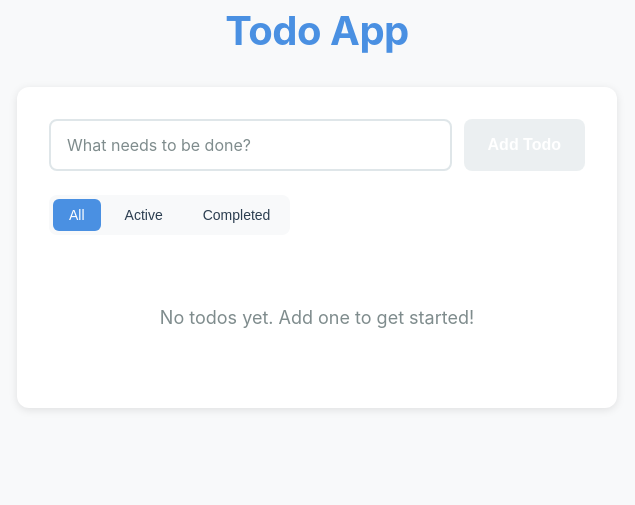
Test: App › should add a new todo
This screenshot has width=635, height=505.
Type "New todo item" into the field with placeholder "What needs to be done?" at (250, 145), box [49,119,452,171]
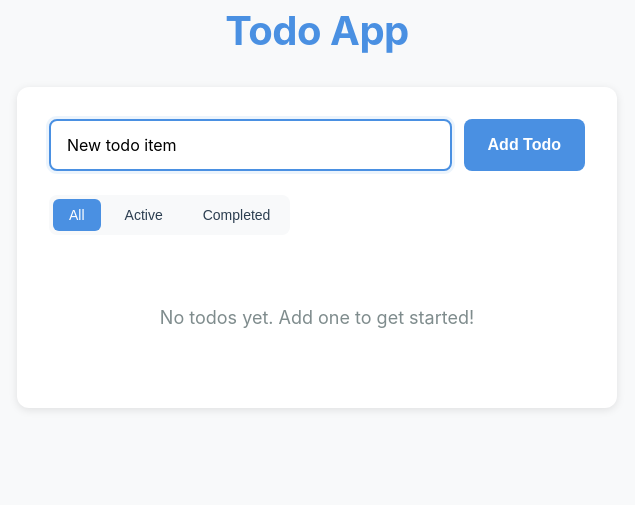
Click the button "Add Todo" at (524, 145), box [464,119,585,171]
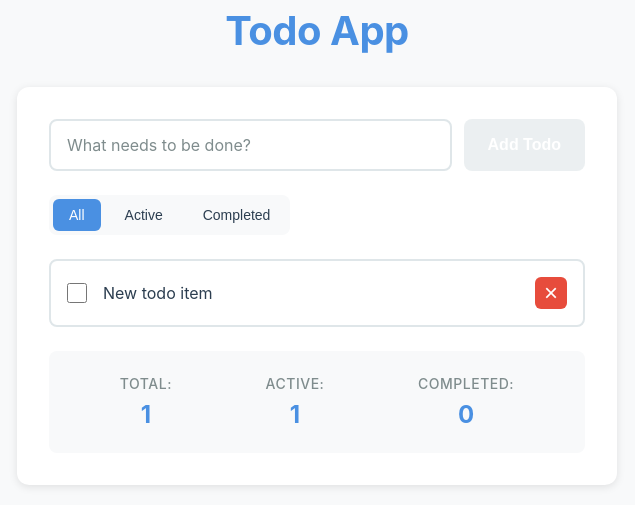
Result: the text "New todo item" is shown at [103,283,212,303]
